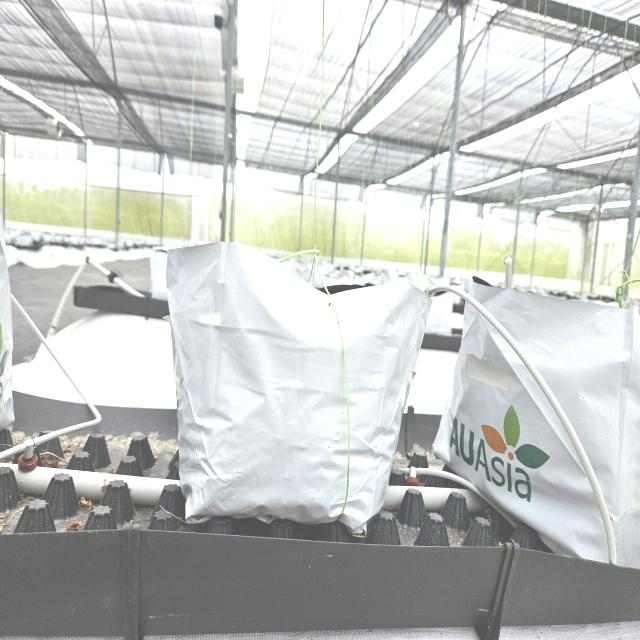Soilbag: (143, 242, 431, 542), (435, 280, 640, 572)
